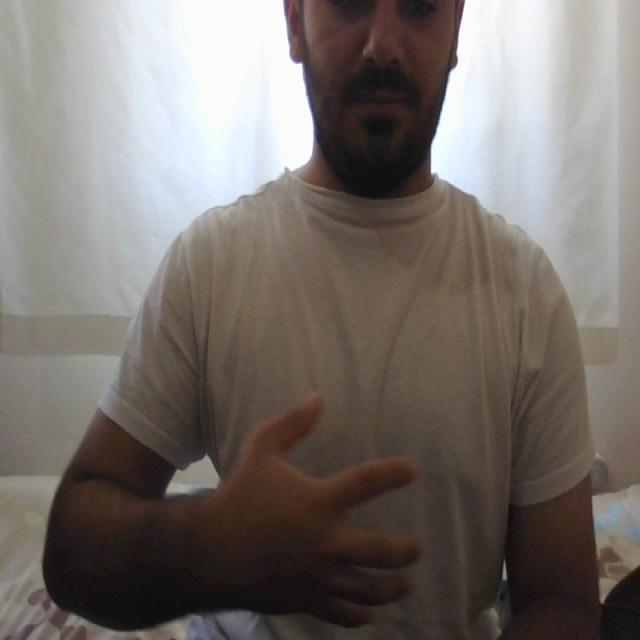Anne: (172, 372, 536, 635)
